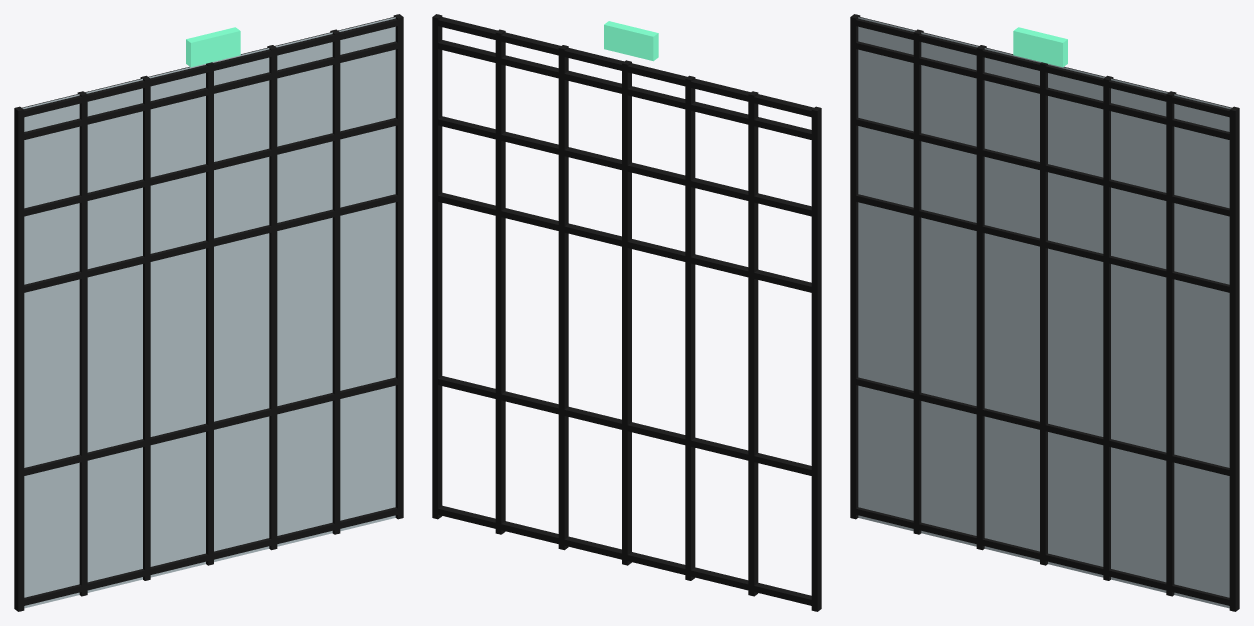
File: partition.glb
The picture shows the model from 3 angles, left to right: view 1: azimuth 30°, elevation 25°; view 2: azimuth 150°, elevation 25°; view 3: azimuth 330°, elevation 25°; orthographic projection.
Size of the model in its own units: 2.64 by 3.48 by 0.105.
